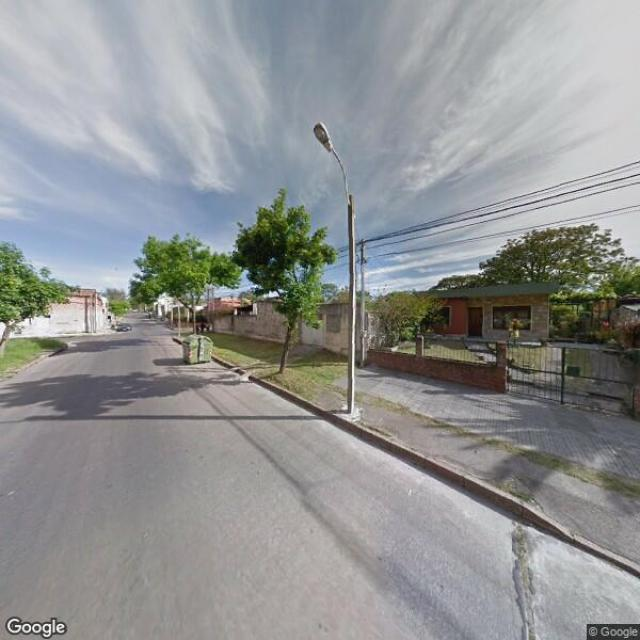garbage container: (172, 330, 223, 367)
